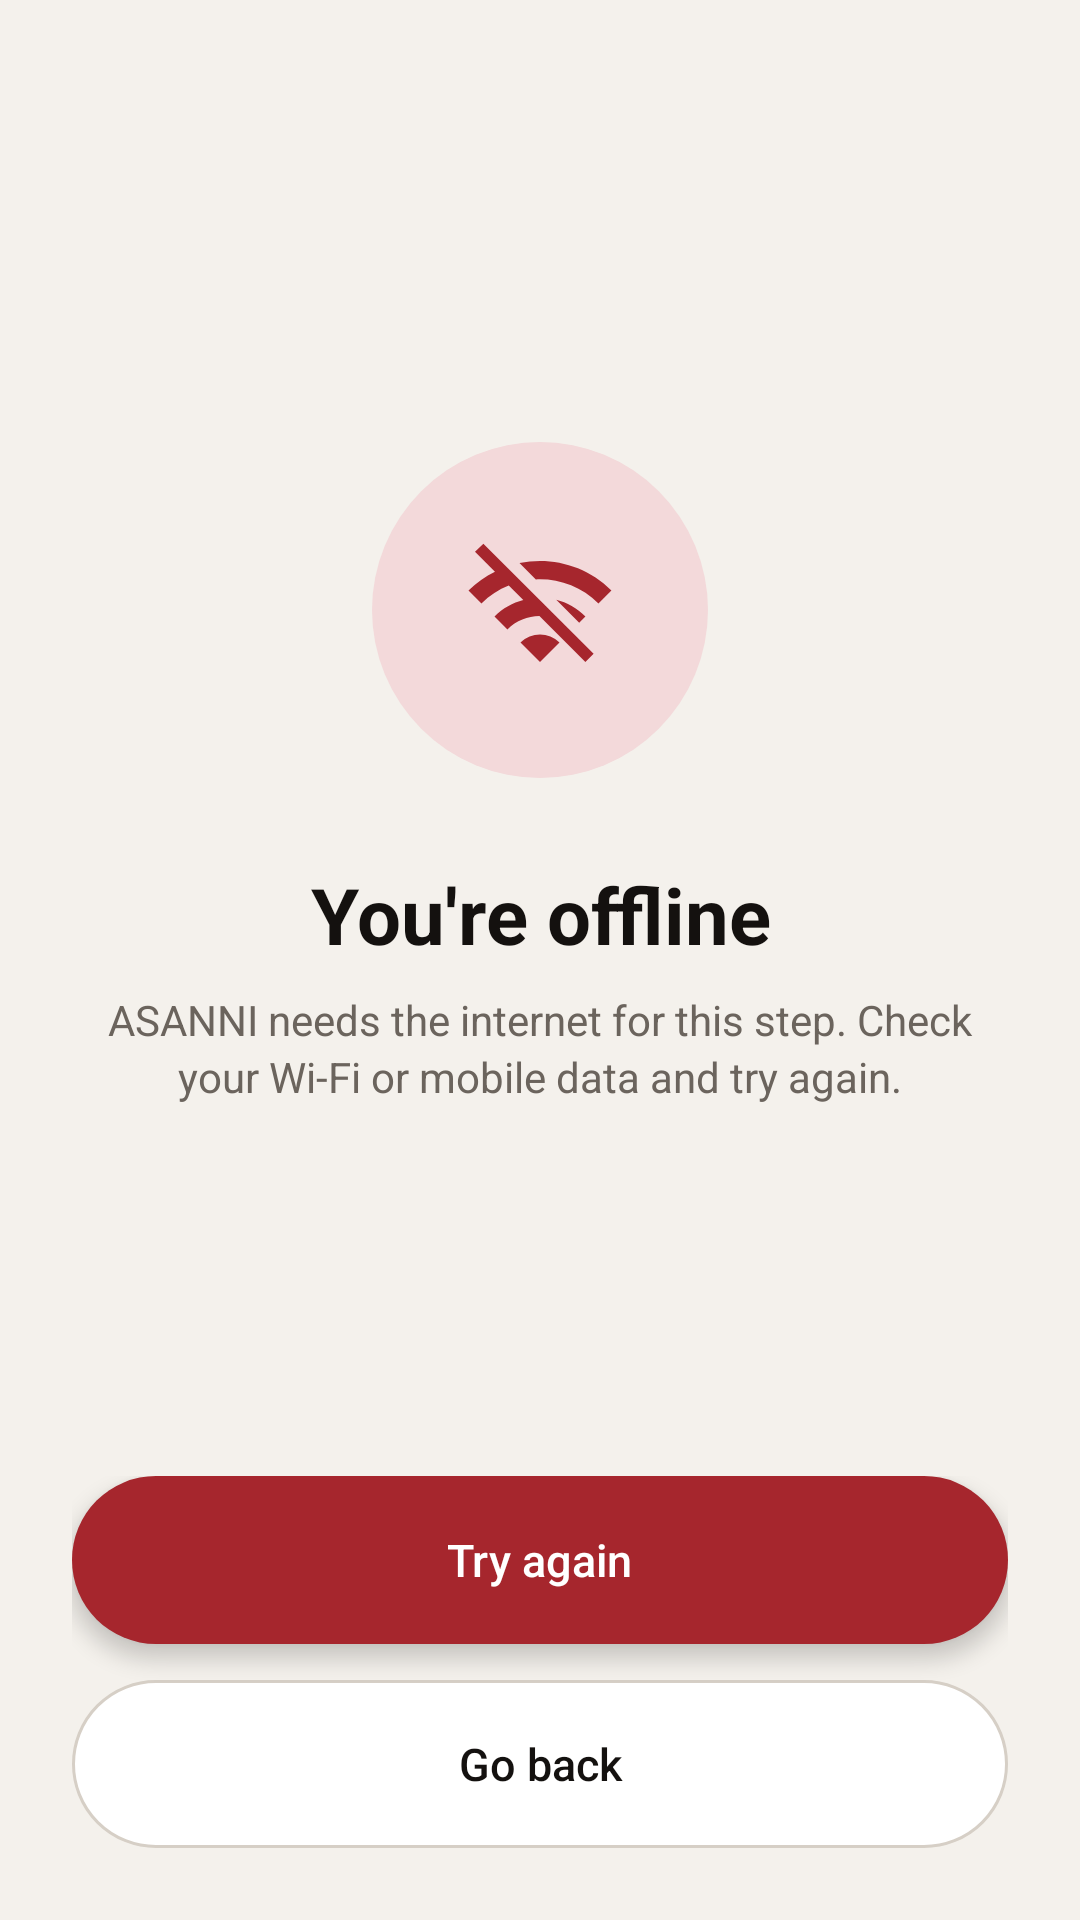

Locate icon controls on the screen. Image size 1080w x 1920h, boxes as (x1, y1, x2, y2).
wifi off: (468, 544, 612, 662)
